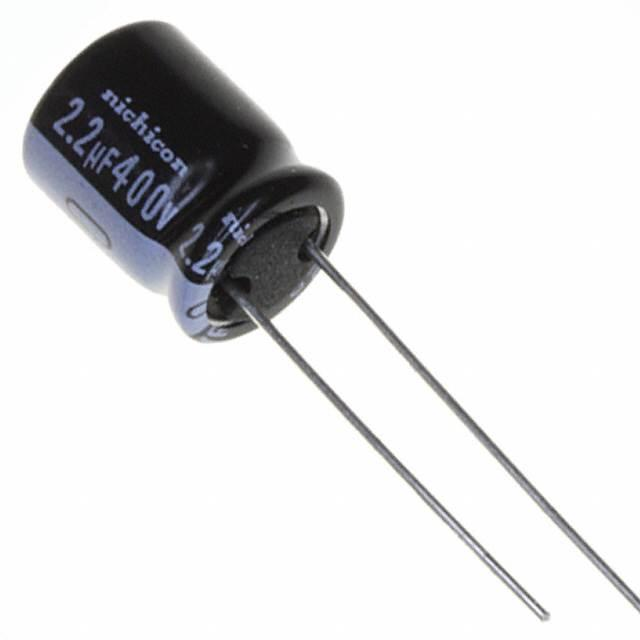Capacitor: (23, 21, 640, 624)
